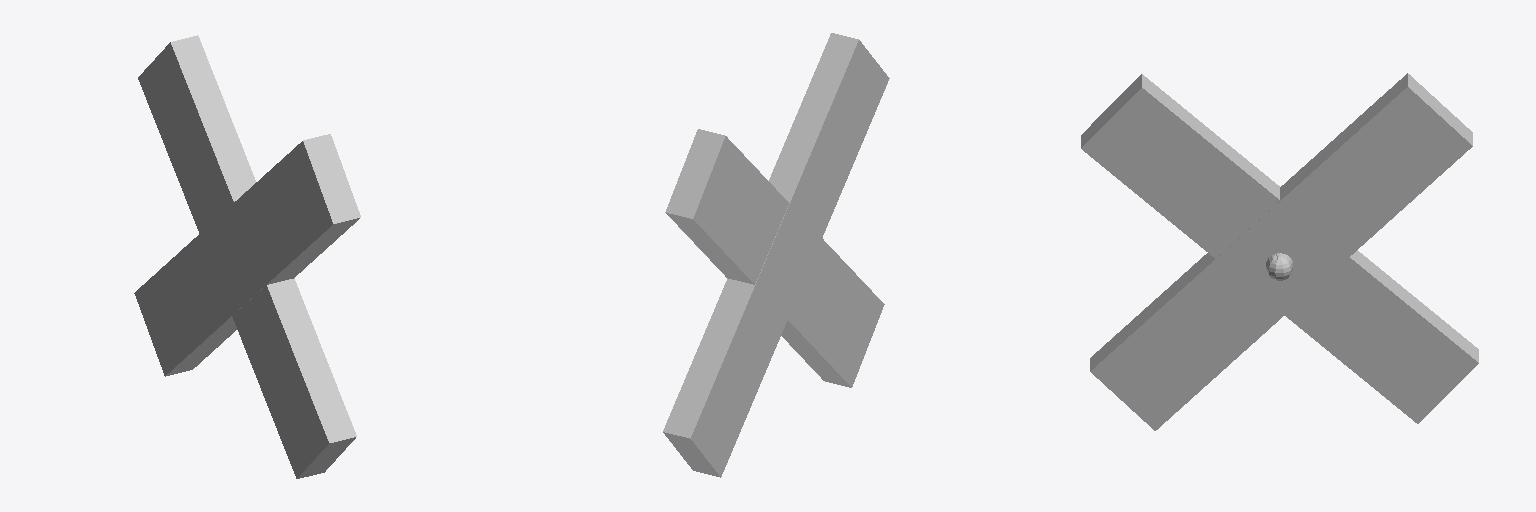
Rendered from sub-eliche.obj.
The picture shows the model from 3 angles: view 1: azimuth 30°, elevation 25°; view 2: azimuth 150°, elevation 25°; view 3: azimuth 270°, elevation 25°; orthographic projection.
Parts seen in each view (by area): view 1: elica2, elica1; view 2: elica1, elica2; view 3: elica2, elica1, bullone.
Part boxes in pixels (x1,y1,x2,y2): elica2: (138, 35, 356, 478); elica1: (134, 134, 360, 376); elica1: (663, 33, 889, 477); elica2: (665, 129, 884, 387); elica2: (1090, 73, 1472, 430); elica1: (1081, 74, 1478, 423); bullone: (1266, 253, 1292, 280).
Bounding box in the file's own units: 0.2247 × 1.67 × 1.75.